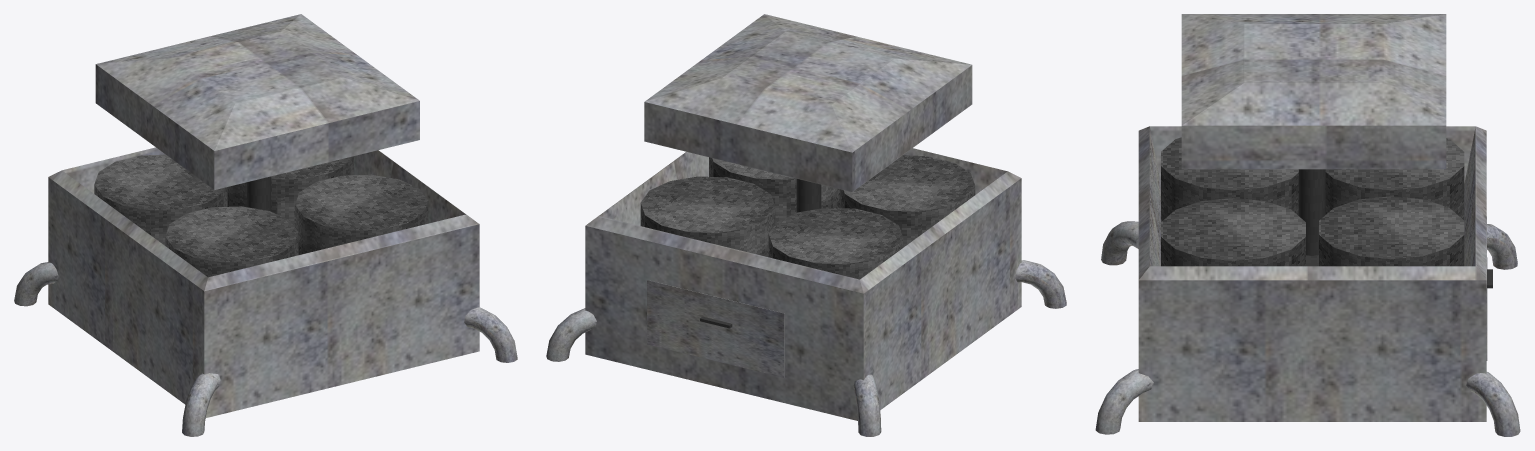
Rendered from kitchena.glb.
3 renders of one model, left to right at view 1: azimuth 30°, elevation 25°; view 2: azimuth 150°, elevation 25°; view 3: azimuth 270°, elevation 25°, orthographic. The views are drawn at different scales.
Parts seen in each view (by area): view 1: Box001, Box002, Cylinder008, Cylinder007, Cylinder006, Cylinder003, Cylinder011, Cylinder012, Cylinder010, Cylinder005; view 2: Box001, Box002, Box003, Cylinder003, Cylinder006, Cylinder007, Cylinder008, Cylinder009, Cylinder011, Cylinder010, Cylinder005; view 3: Box001, Box002, Cylinder003, Cylinder008, Cylinder007, Cylinder006, Cylinder005, Cylinder009, Cylinder012, Cylinder011, Cylinder010.
Boxes of the visible parts, box(x1,y1,x2,y2) form: Box001: box(48, 147, 479, 417); Box002: box(95, 14, 419, 189); Cylinder008: box(295, 174, 428, 254); Cylinder007: box(165, 206, 298, 277); Cylinder006: box(94, 154, 227, 245); Cylinder003: box(227, 156, 353, 226); Cylinder011: box(182, 373, 220, 436); Cylinder012: box(464, 307, 517, 362); Cylinder010: box(14, 262, 58, 306); Cylinder005: box(247, 176, 271, 211); Box001: box(585, 148, 1021, 420); Box002: box(644, 14, 972, 191); Box003: box(647, 280, 784, 377); Cylinder003: box(640, 176, 775, 257); Cylinder006: box(768, 207, 903, 279); Cylinder007: box(840, 155, 975, 247); Cylinder008: box(709, 157, 840, 223); Cylinder009: box(546, 308, 596, 361); Cylinder011: box(1015, 260, 1066, 308); Cylinder010: box(853, 374, 881, 436); Cylinder005: box(796, 179, 821, 212); Box001: box(1138, 126, 1486, 421); Box002: box(1181, 14, 1446, 169); Cylinder003: box(1319, 196, 1464, 266); Cylinder008: box(1161, 198, 1305, 266); Cylinder007: box(1161, 137, 1298, 221); Cylinder006: box(1325, 138, 1464, 220); Cylinder005: box(1298, 169, 1325, 255); Cylinder009: box(1466, 372, 1520, 436); Cylinder012: box(1095, 369, 1153, 434); Cylinder011: box(1101, 221, 1138, 265); Cylinder010: box(1487, 224, 1517, 269).
Bounding box in the file's own units: 0.9093 × 0.6843 × 0.8976.
Materials: 4 (4 with a texture image).
